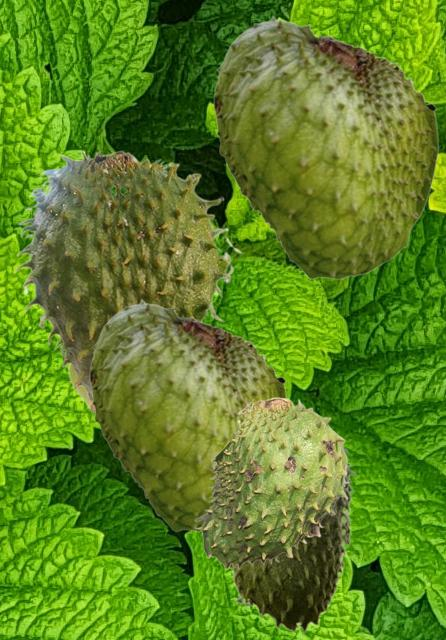guyabano: (13, 149, 242, 413), (213, 14, 438, 279), (89, 298, 287, 531), (194, 397, 348, 569), (229, 445, 357, 632)
